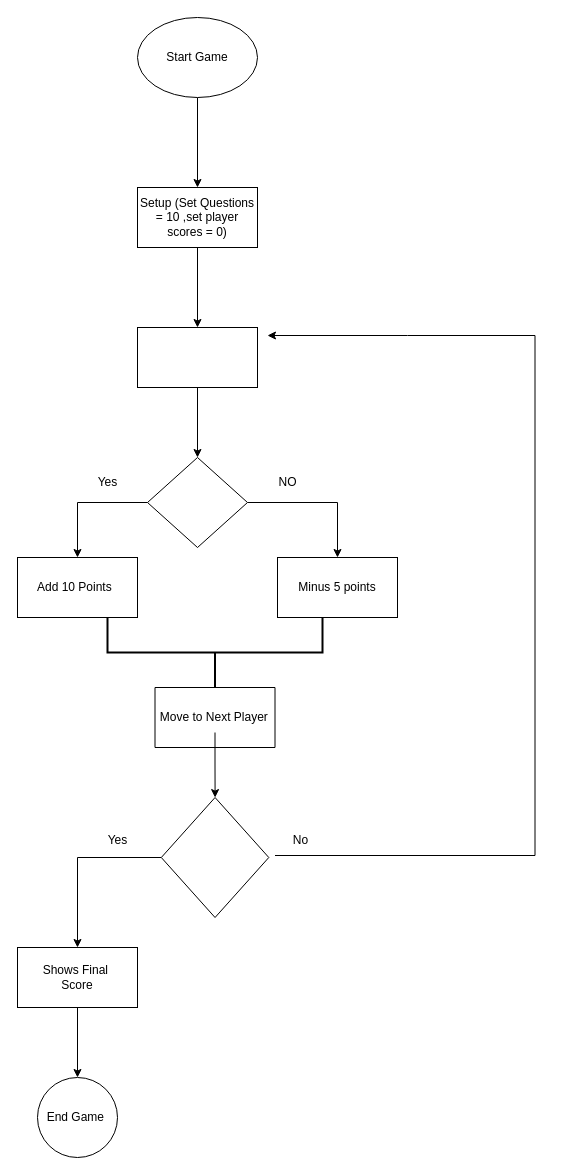
The diagram is 561 pixels wide and 1175 high, and some of its shapes have lost their labels. Each missing label, with the centre of its shape:
Have all the questions been asked: point (214, 857)
Is the answers correct: point (197, 502)
Player answers question: point (197, 357)
